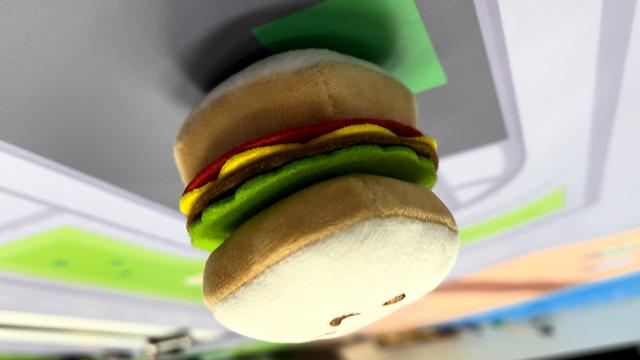sandwich: (170, 46, 462, 342)
